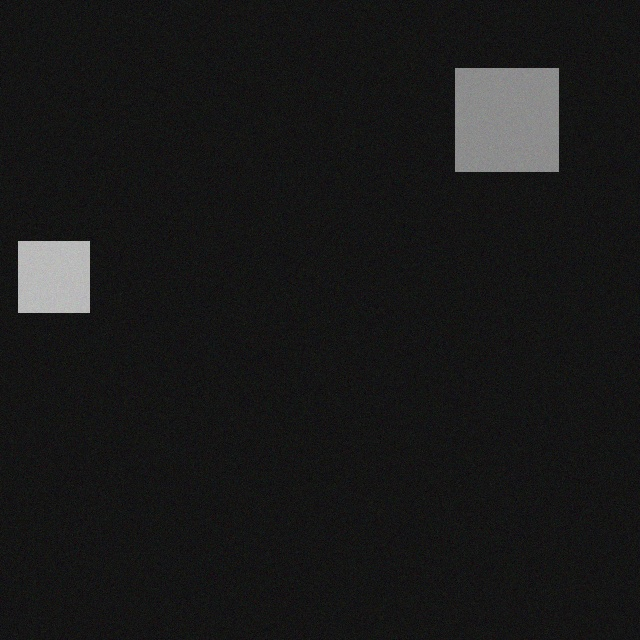square: (447, 59, 550, 162), (10, 232, 81, 303)
